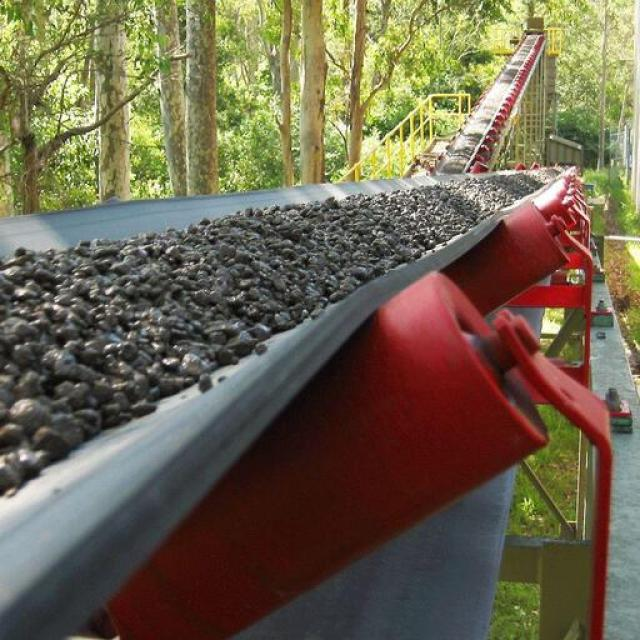conveyor: (6, 167, 568, 554), (408, 25, 552, 180)
